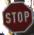Stop sign: (0, 0, 33, 34)
